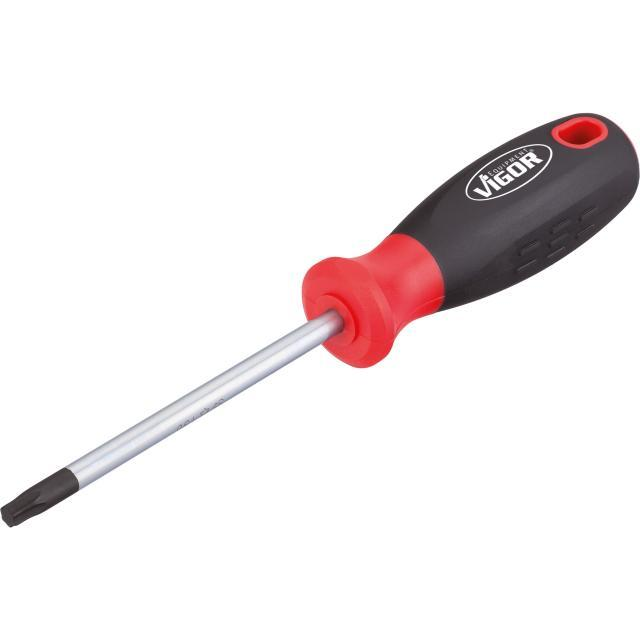screwdriver: (0, 110, 640, 534)
